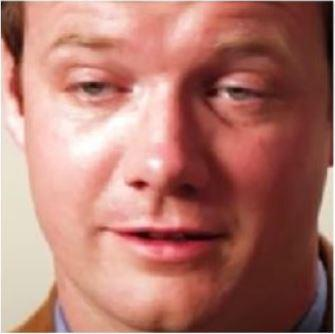Drunk: (27, 2, 318, 326)
